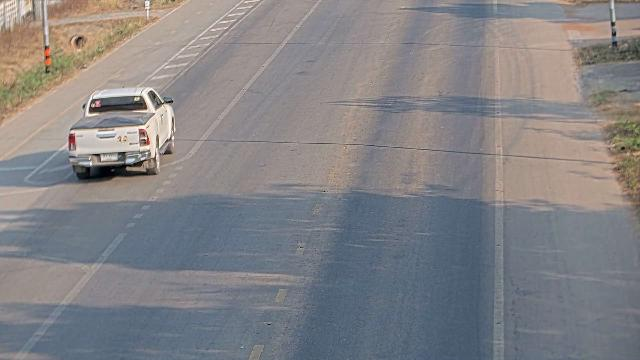pickup-truck: (67, 85, 176, 179)
